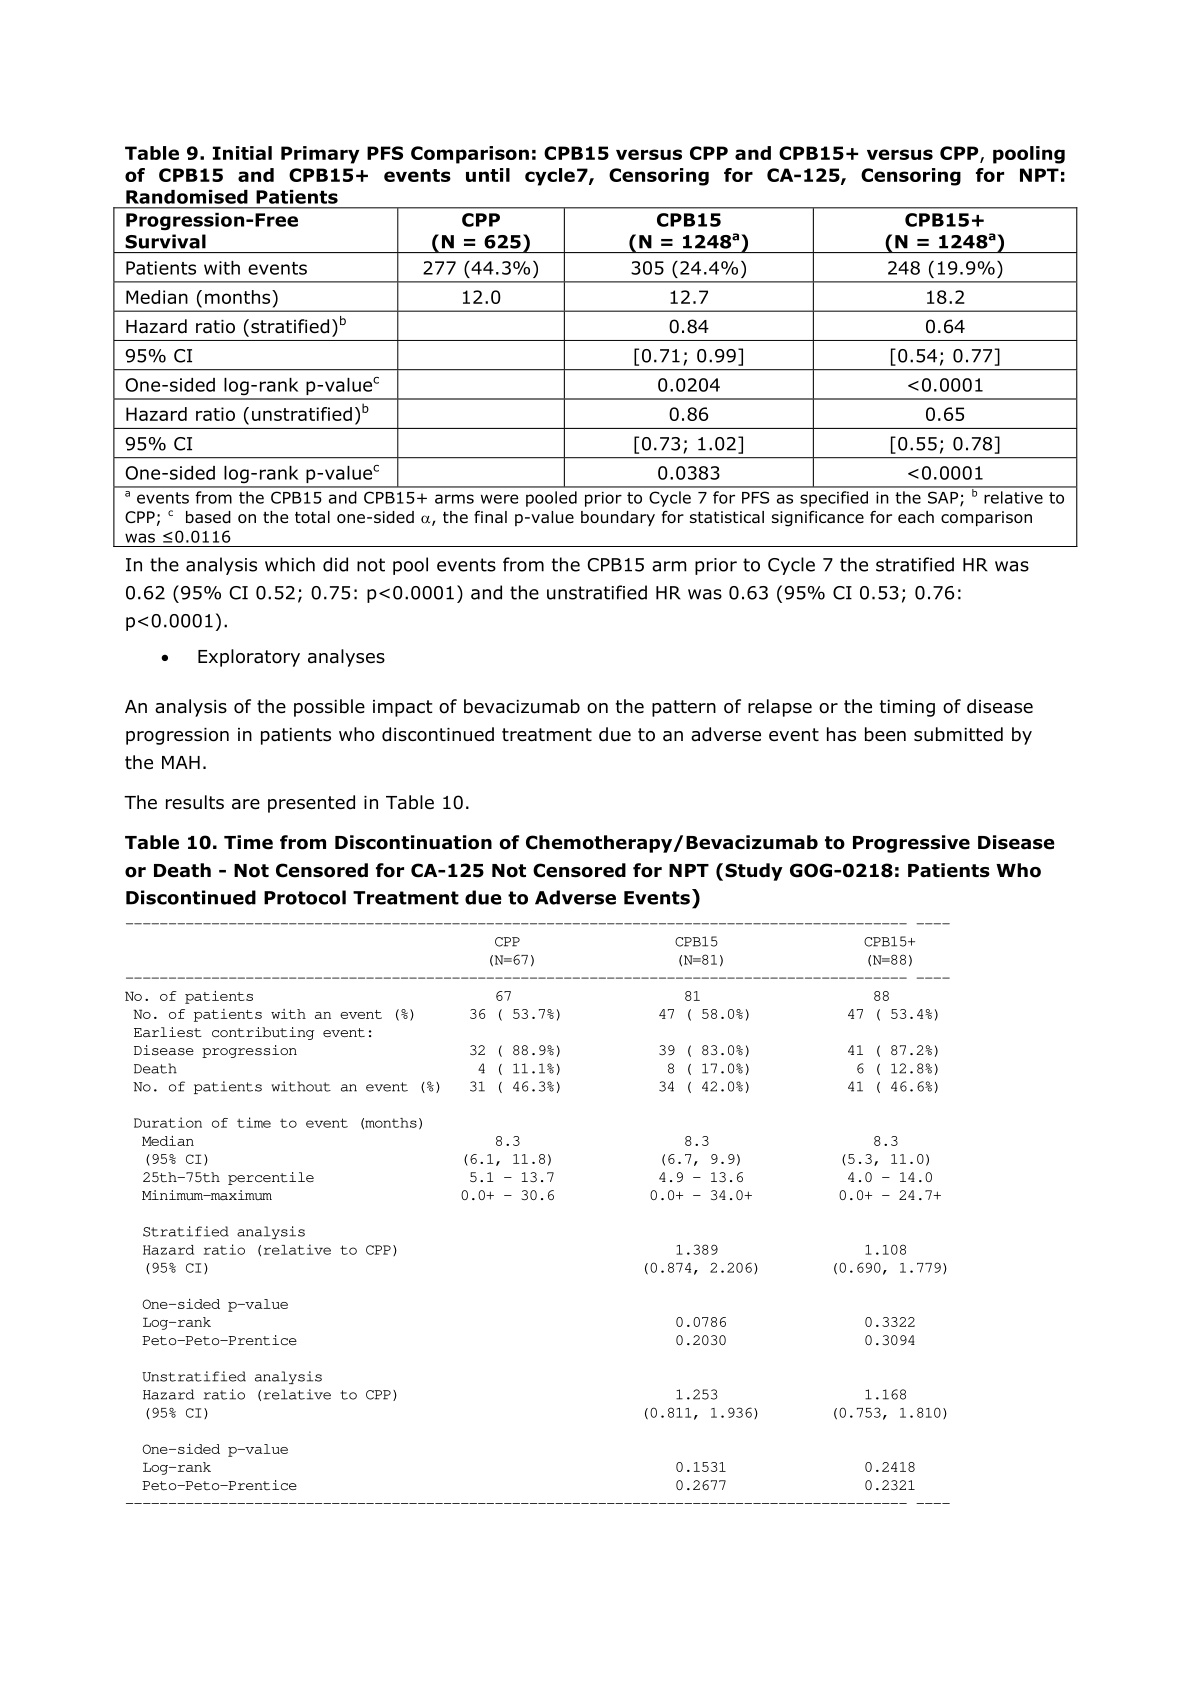merged_cells: (112, 205, 1078, 548)
partial_lined: (124, 921, 953, 1505)
